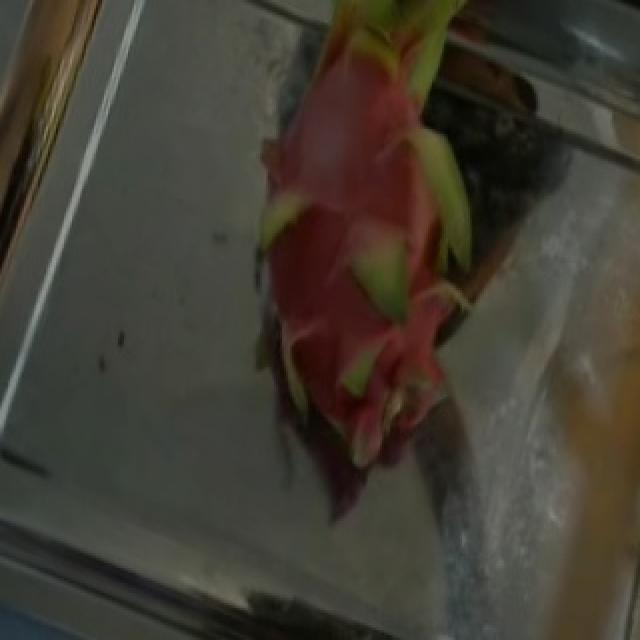fruit: (164, 3, 590, 429)
